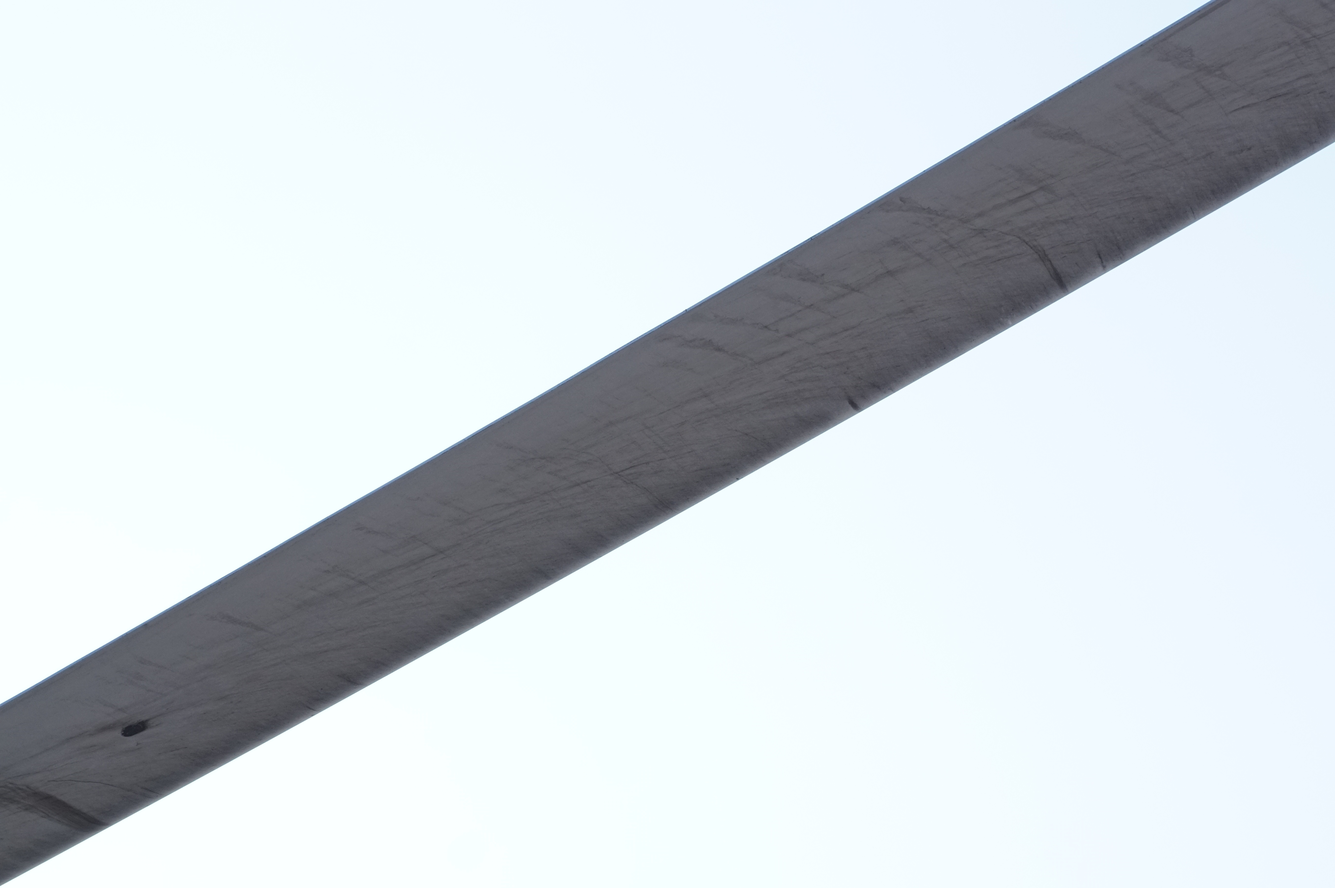Damage: (120, 722, 147, 737)
